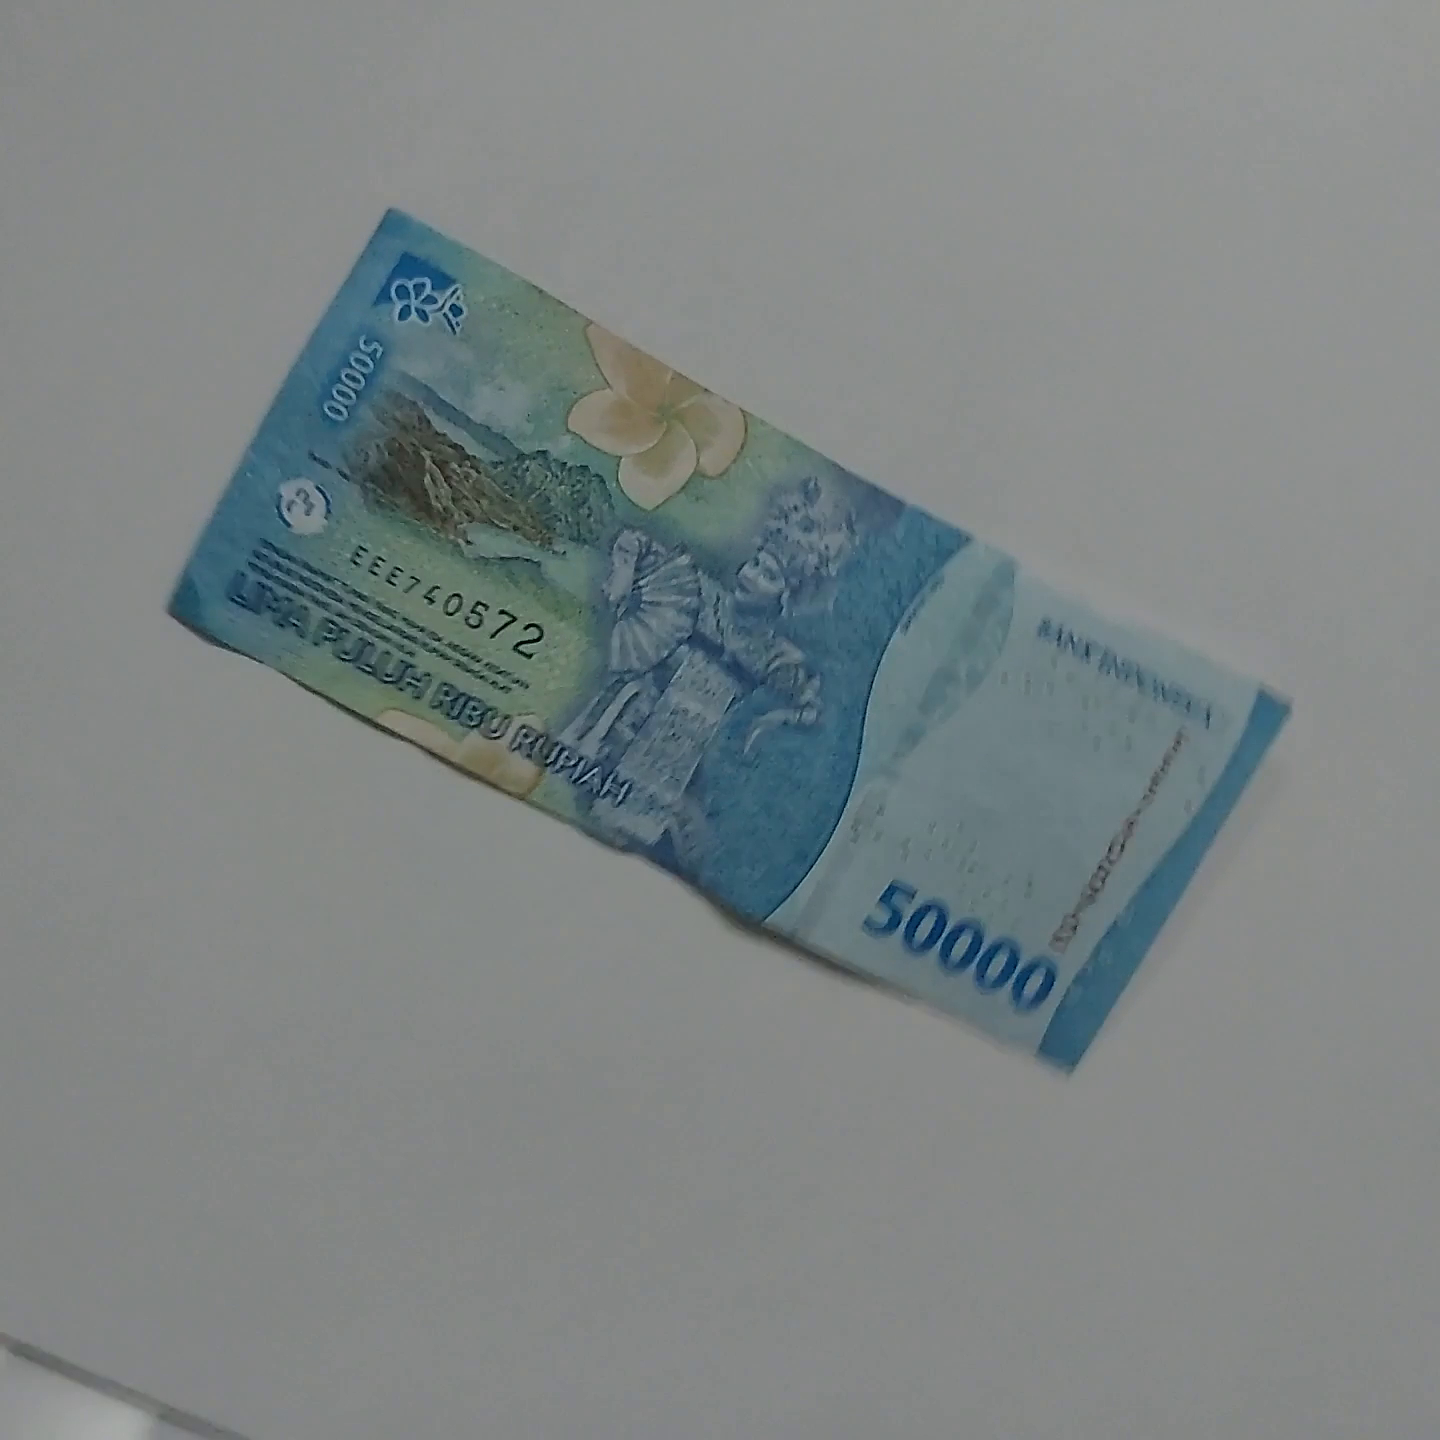50k: (386, 211, 1412, 688)
